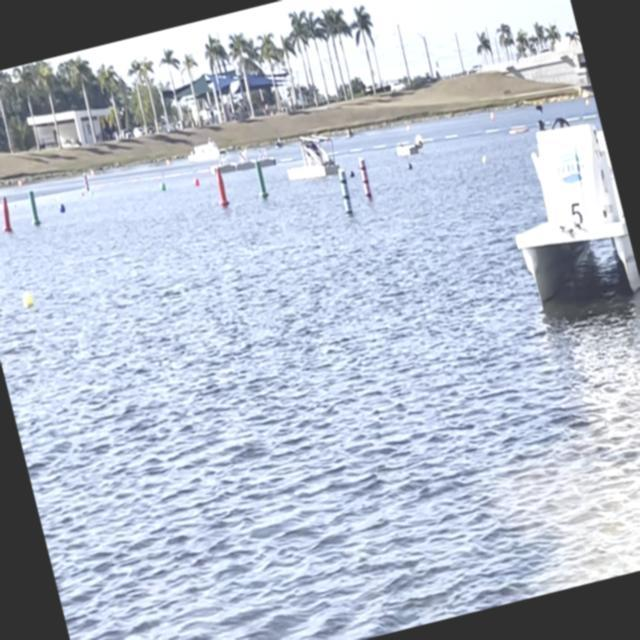buoy: (20, 288, 36, 308), (56, 202, 66, 215), (480, 154, 489, 166), (158, 178, 166, 190), (192, 176, 200, 186), (405, 161, 413, 171), (348, 170, 356, 178)
